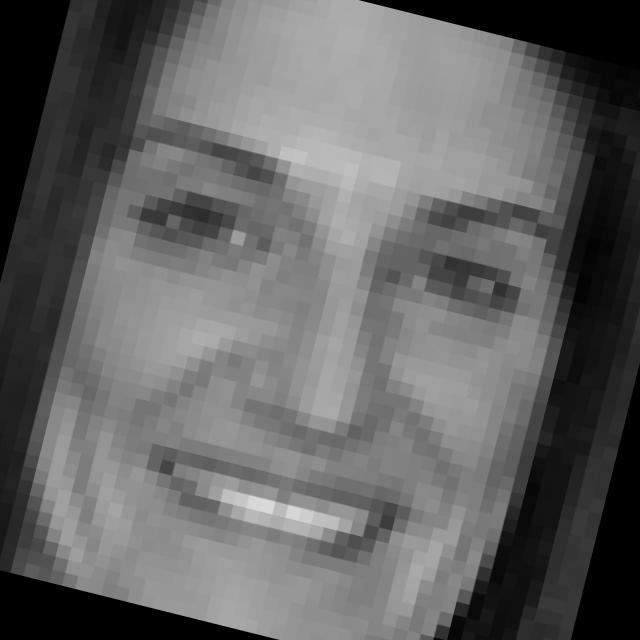happy: (19, 88, 574, 628)
